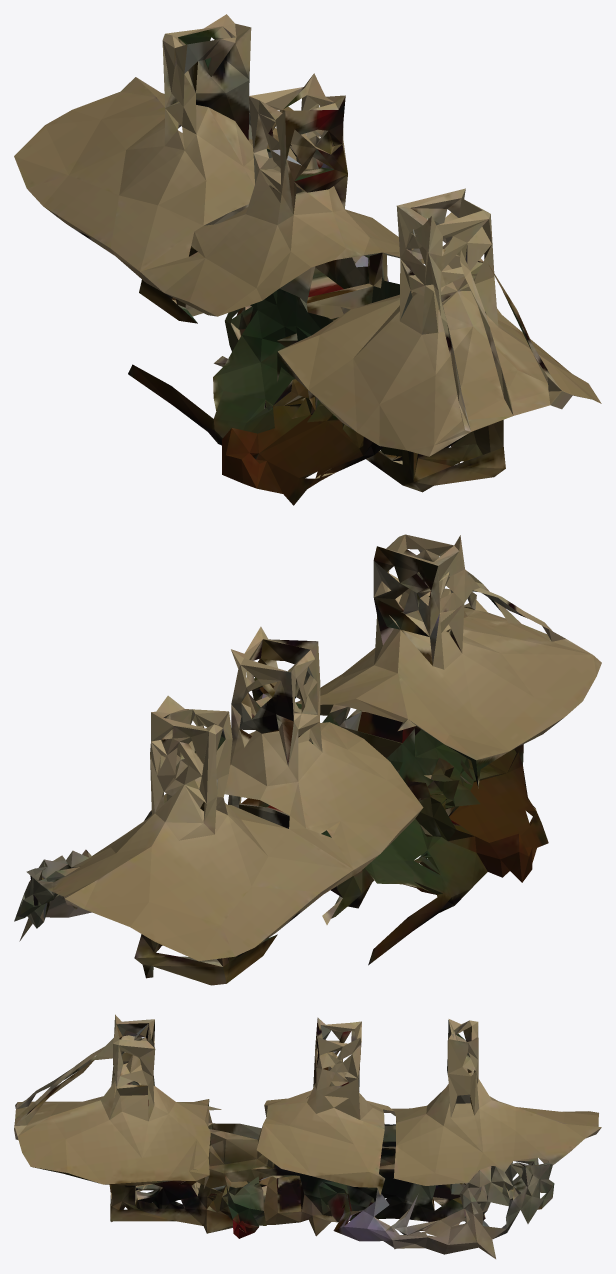
Rendered from carpas_oasis.glb.
3 views of the same model, one above another, from view 1: azimuth 30°, elevation 25°; view 2: azimuth 150°, elevation 25°; view 3: azimuth 270°, elevation 25° (orthographic). The views are drawn at different scales.
Parts seen in each view (by area): view 1: tmpiabtc6zi.ply; view 2: tmpiabtc6zi.ply; view 3: tmpiabtc6zi.ply.
Part boxes in pixels (left/top/right/bottom): tmpiabtc6zi.ply: left=14, top=14, right=601, bottom=505; tmpiabtc6zi.ply: left=14, top=534, right=601, bottom=985; tmpiabtc6zi.ply: left=14, top=1014, right=601, bottom=1258.
Bounding box in the file's own units: 0.8633 × 0.727 × 1.98.
Materials: 1 (1 with a texture image).
